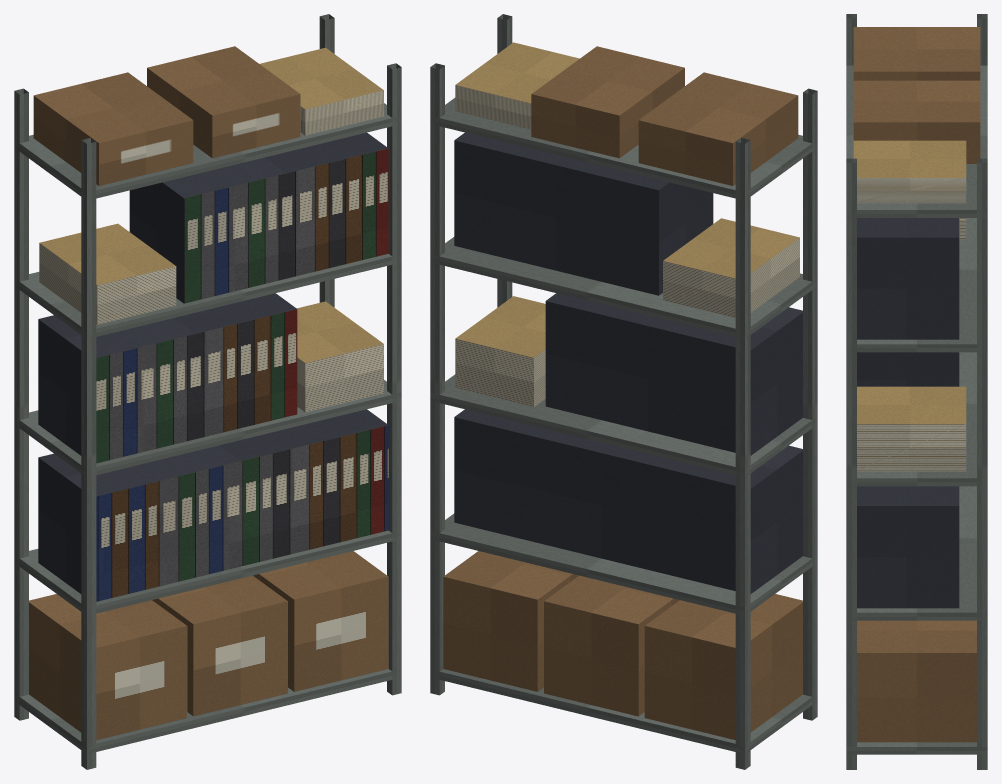
The model's file is Shelves_Documents.fbx.
The picture shows the model from 3 angles, left to right: view 1: azimuth 30°, elevation 25°; view 2: azimuth 150°, elevation 25°; view 3: azimuth 270°, elevation 25°; orthographic projection. The views are drawn at different scales.
Parts seen in each view (by area): view 1: стеллаж с документами; view 2: стеллаж с документами; view 3: стеллаж с документами.
Part boxes in pixels (box(x1,y1,x2,y2)): стеллаж с документами: box(14, 14, 401, 769); стеллаж с документами: box(430, 14, 817, 769); стеллаж с документами: box(846, 14, 987, 769).
Size of the model in its own units: 1 by 1.9 by 0.4.
1 material, 1 textured.
